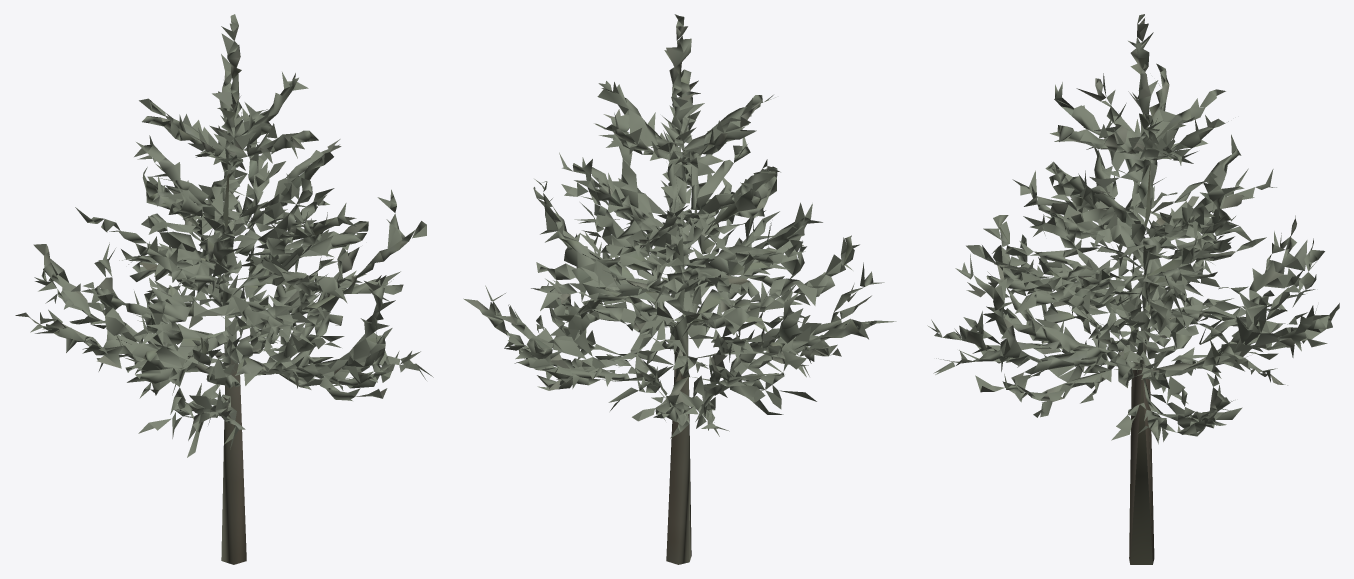
Rendered from conifer_small.glb.
The picture shows the model from 3 angles, left to right: view 1: azimuth 30°, elevation 25°; view 2: azimuth 150°, elevation 25°; view 3: azimuth 270°, elevation 25°; orthographic projection.
Parts seen in each view (by area): view 1: output_unwrapped; view 2: output_unwrapped; view 3: output_unwrapped.
Part boxes in pixels (x1,y1,x2,y2): output_unwrapped: (15,14,433,564); output_unwrapped: (463,14,896,564); output_unwrapped: (927,14,1339,564).
Size of the model in its own units: 1.38 by 1.86 by 1.27.
Materials: 1 (1 with a texture image).
